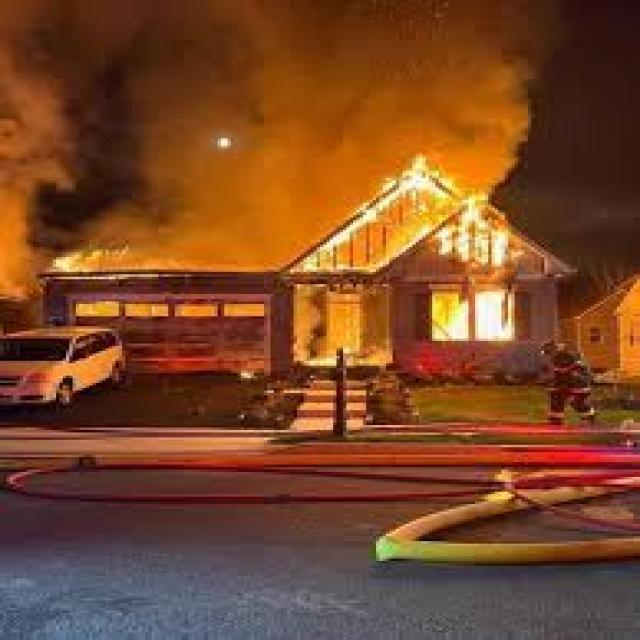Fire: (342, 154, 538, 329)
Smoke: (8, 0, 554, 208)
